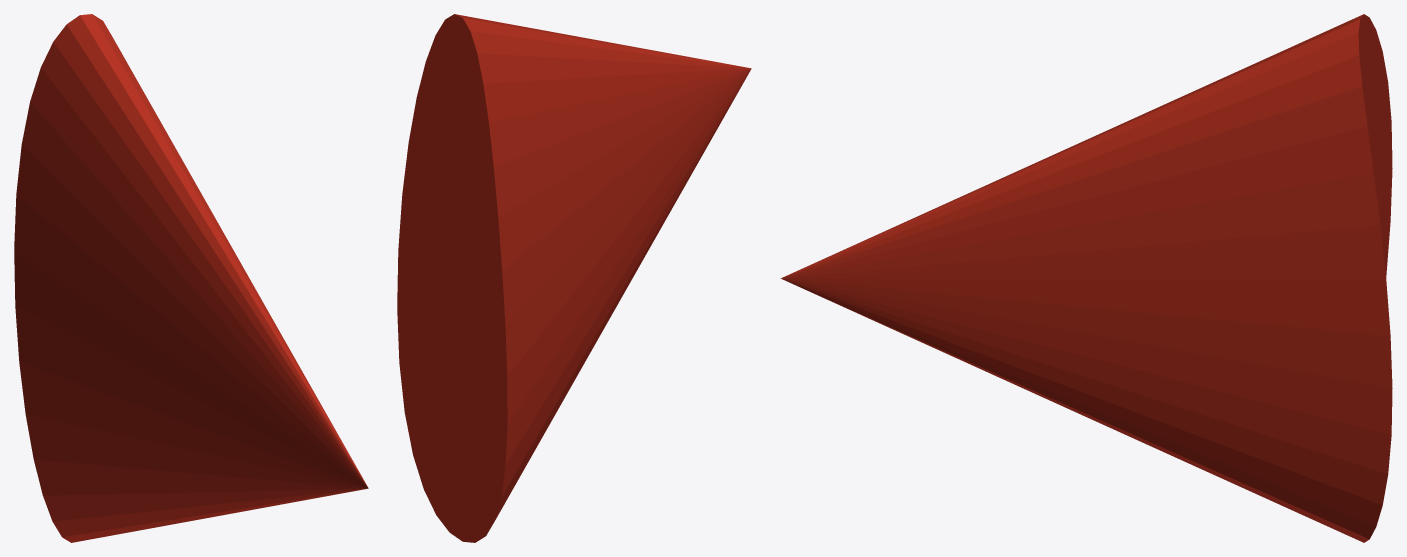
File: Arrow.fbx
3 views of the same model, side by side, from view 1: azimuth 30°, elevation 25°; view 2: azimuth 150°, elevation 25°; view 3: azimuth 270°, elevation 25° (orthographic).
Visible parts, largest first — view 1: Cone; view 2: Cone; view 3: Cone.
Boxes of the visible parts, <box> form: Cone: <box>14,14,368,542</box>; Cone: <box>397,14,751,542</box>; Cone: <box>780,14,1392,542</box>.
Bounding box in the file's own units: 38.1 × 178 × 187.
